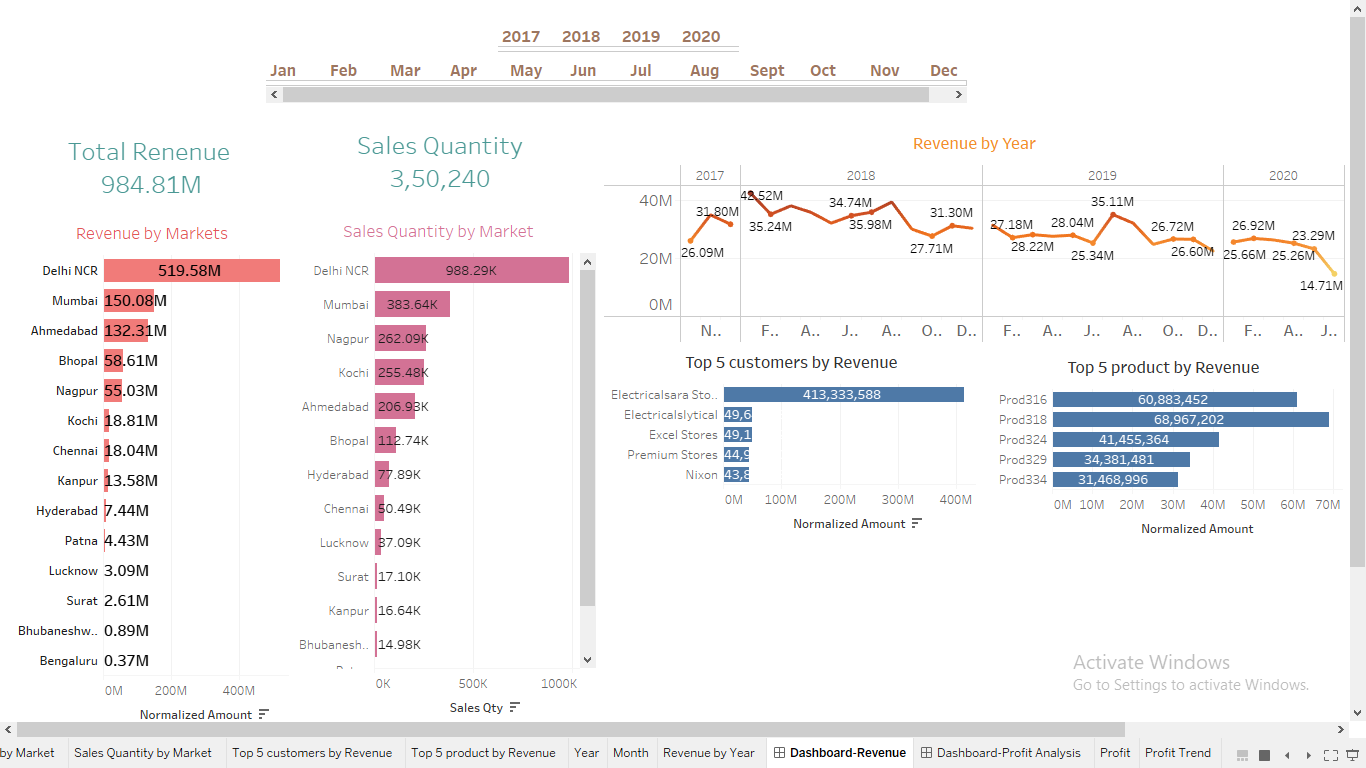

This screenshot's page, from the dashboard's own definition file:
{"tool":"tableau","page":{"name":"Dashboard-Revenue","canvas":[1600,900],"ordinal":1},"visuals":[{"type":"worksheet","title":"Year","mark":"Automatic","cols":["cy_date"],"box":[498,26,250,27]},{"type":"worksheet","title":"Month","mark":"Automatic","cols":["cy_date"],"box":[266,60,701,44]},{"type":"worksheet","title":"Quantity","mark":"Automatic","box":[350,113,200,93]},{"type":"worksheet","title":"Revenue","mark":"Automatic","box":[59,119,205,89]},{"type":"worksheet","title":"Revenue by Year","mark":"Automatic","rows":["Calculation_1464232870616539136"],"cols":["cy_date","cy_date"],"box":[604,128,741,215]},{"type":"worksheet","title":"Sales Quantity by Market","mark":"Automatic","rows":["markets_name"],"cols":["sales_qty"],"box":[298,215,298,508]},{"type":"worksheet","title":"Revenue by Market","mark":"Automatic","rows":["markets_name"],"cols":["Calculation_1464232870616539136"],"box":[15,217,274,529]},{"type":"worksheet","title":"Top 5 customers by Revenue","mark":"Automatic","rows":["custmer_name"],"cols":["Calculation_1464232870616539136"],"box":[607,347,369,216]},{"type":"worksheet","title":"Top 5 product by Revenue","mark":"Automatic","rows":["product_code"],"cols":["Calculation_1464232870616539136"],"box":[984,352,359,220]}]}

Visuals, with their boxes on the page's 1600x900 design canvas (x1, y1, x2, y2). These are canvas units, not pixel positions in the 1366x768 screenshot, which may show the page scaled, cropped or inside an application window:
"Year" worksheet: box=[498, 26, 748, 53]
"Month" worksheet: box=[266, 60, 967, 104]
"Quantity" worksheet: box=[350, 113, 550, 206]
"Revenue" worksheet: box=[59, 119, 264, 208]
"Revenue by Year" worksheet: box=[604, 128, 1345, 343]
"Sales Quantity by Market" worksheet: box=[298, 215, 596, 723]
"Revenue by Market" worksheet: box=[15, 217, 289, 746]
"Top 5 customers by Revenue" worksheet: box=[607, 347, 976, 563]
"Top 5 product by Revenue" worksheet: box=[984, 352, 1343, 572]
